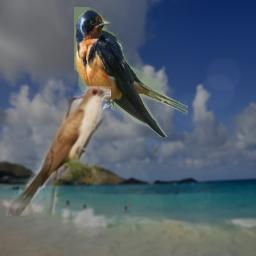Cuckoo: (6, 86, 111, 216)
Swallow: (74, 7, 188, 137)
